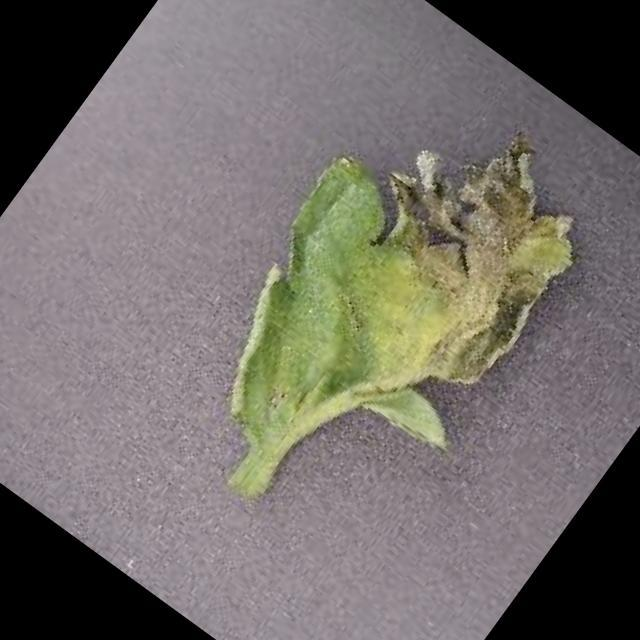Tomato late blight leaf: (168, 51, 622, 540)
